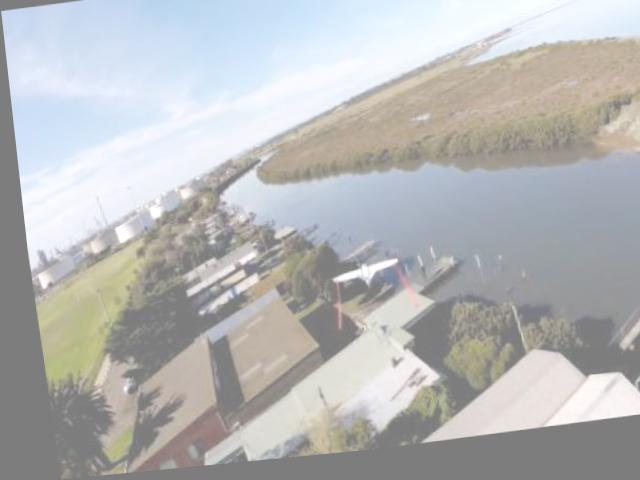uav: (323, 259, 397, 300)
